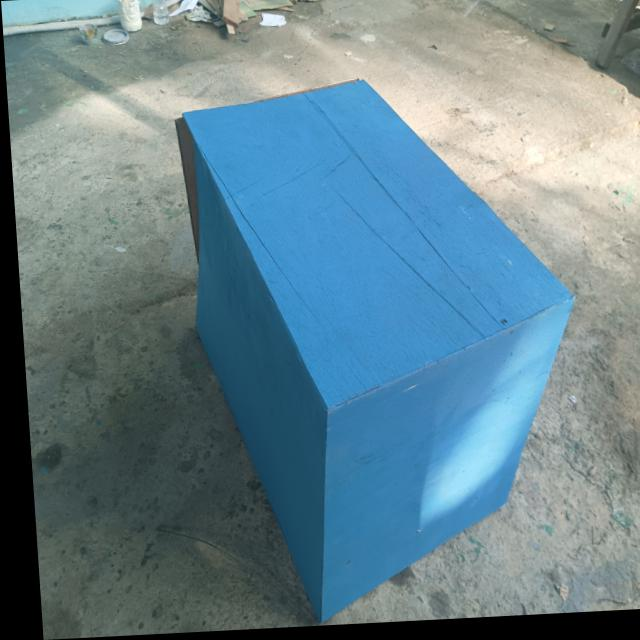blue_box: (161, 67, 572, 603)
